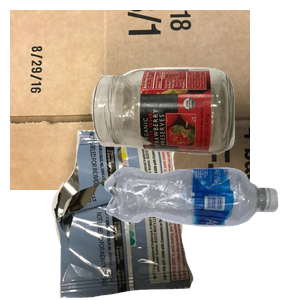cardboard: (10, 10, 250, 190)
glass: (89, 65, 300, 212)
plastic: (102, 165, 300, 300)
trash: (49, 130, 235, 300)
